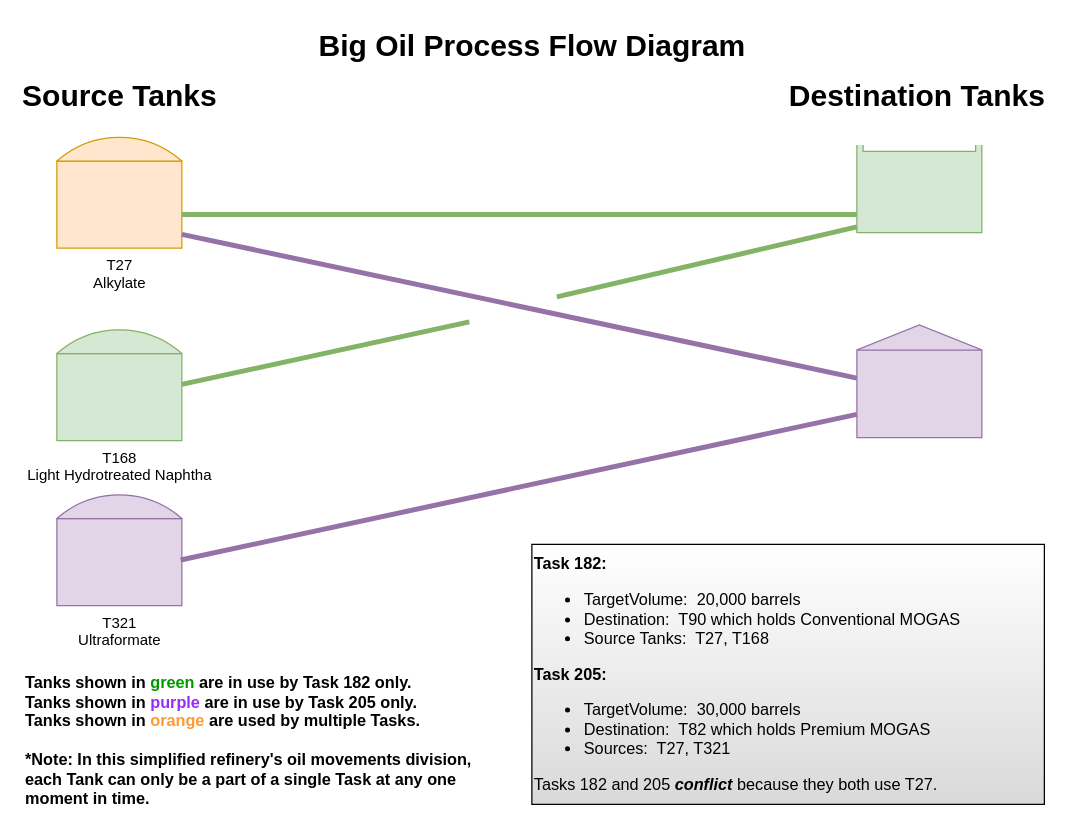
This 1066x830 diagram has some shape labels left out. Each missing label, with the box of its shape:
T82 Premium MOGAS: (856, 324, 982, 438)
T90 Conventional MOGAS: (856, 144, 982, 232)
